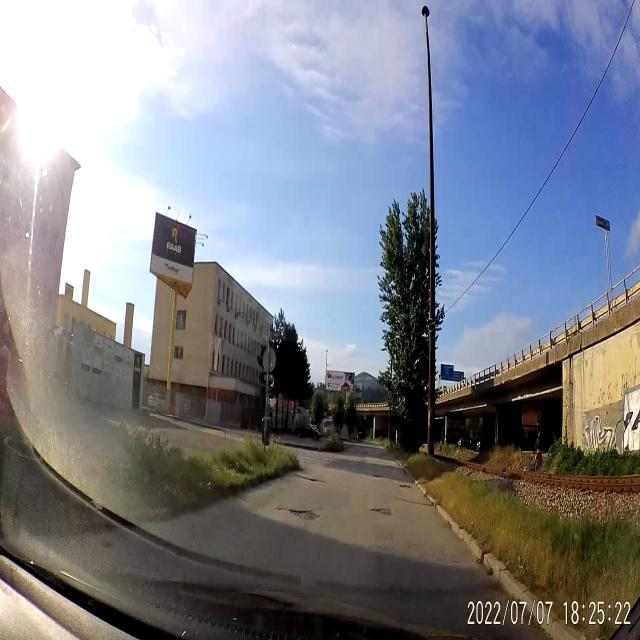Pothole: (278, 500, 320, 530), (368, 500, 394, 522), (398, 482, 416, 490), (370, 472, 384, 482)
